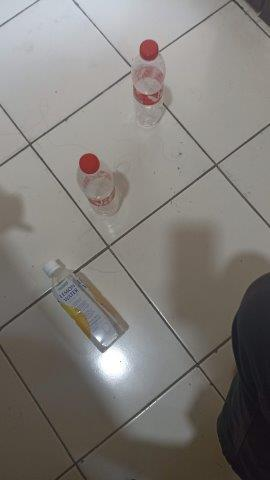botolplastik: (44, 261, 124, 353), (129, 38, 167, 131), (73, 155, 125, 218)
